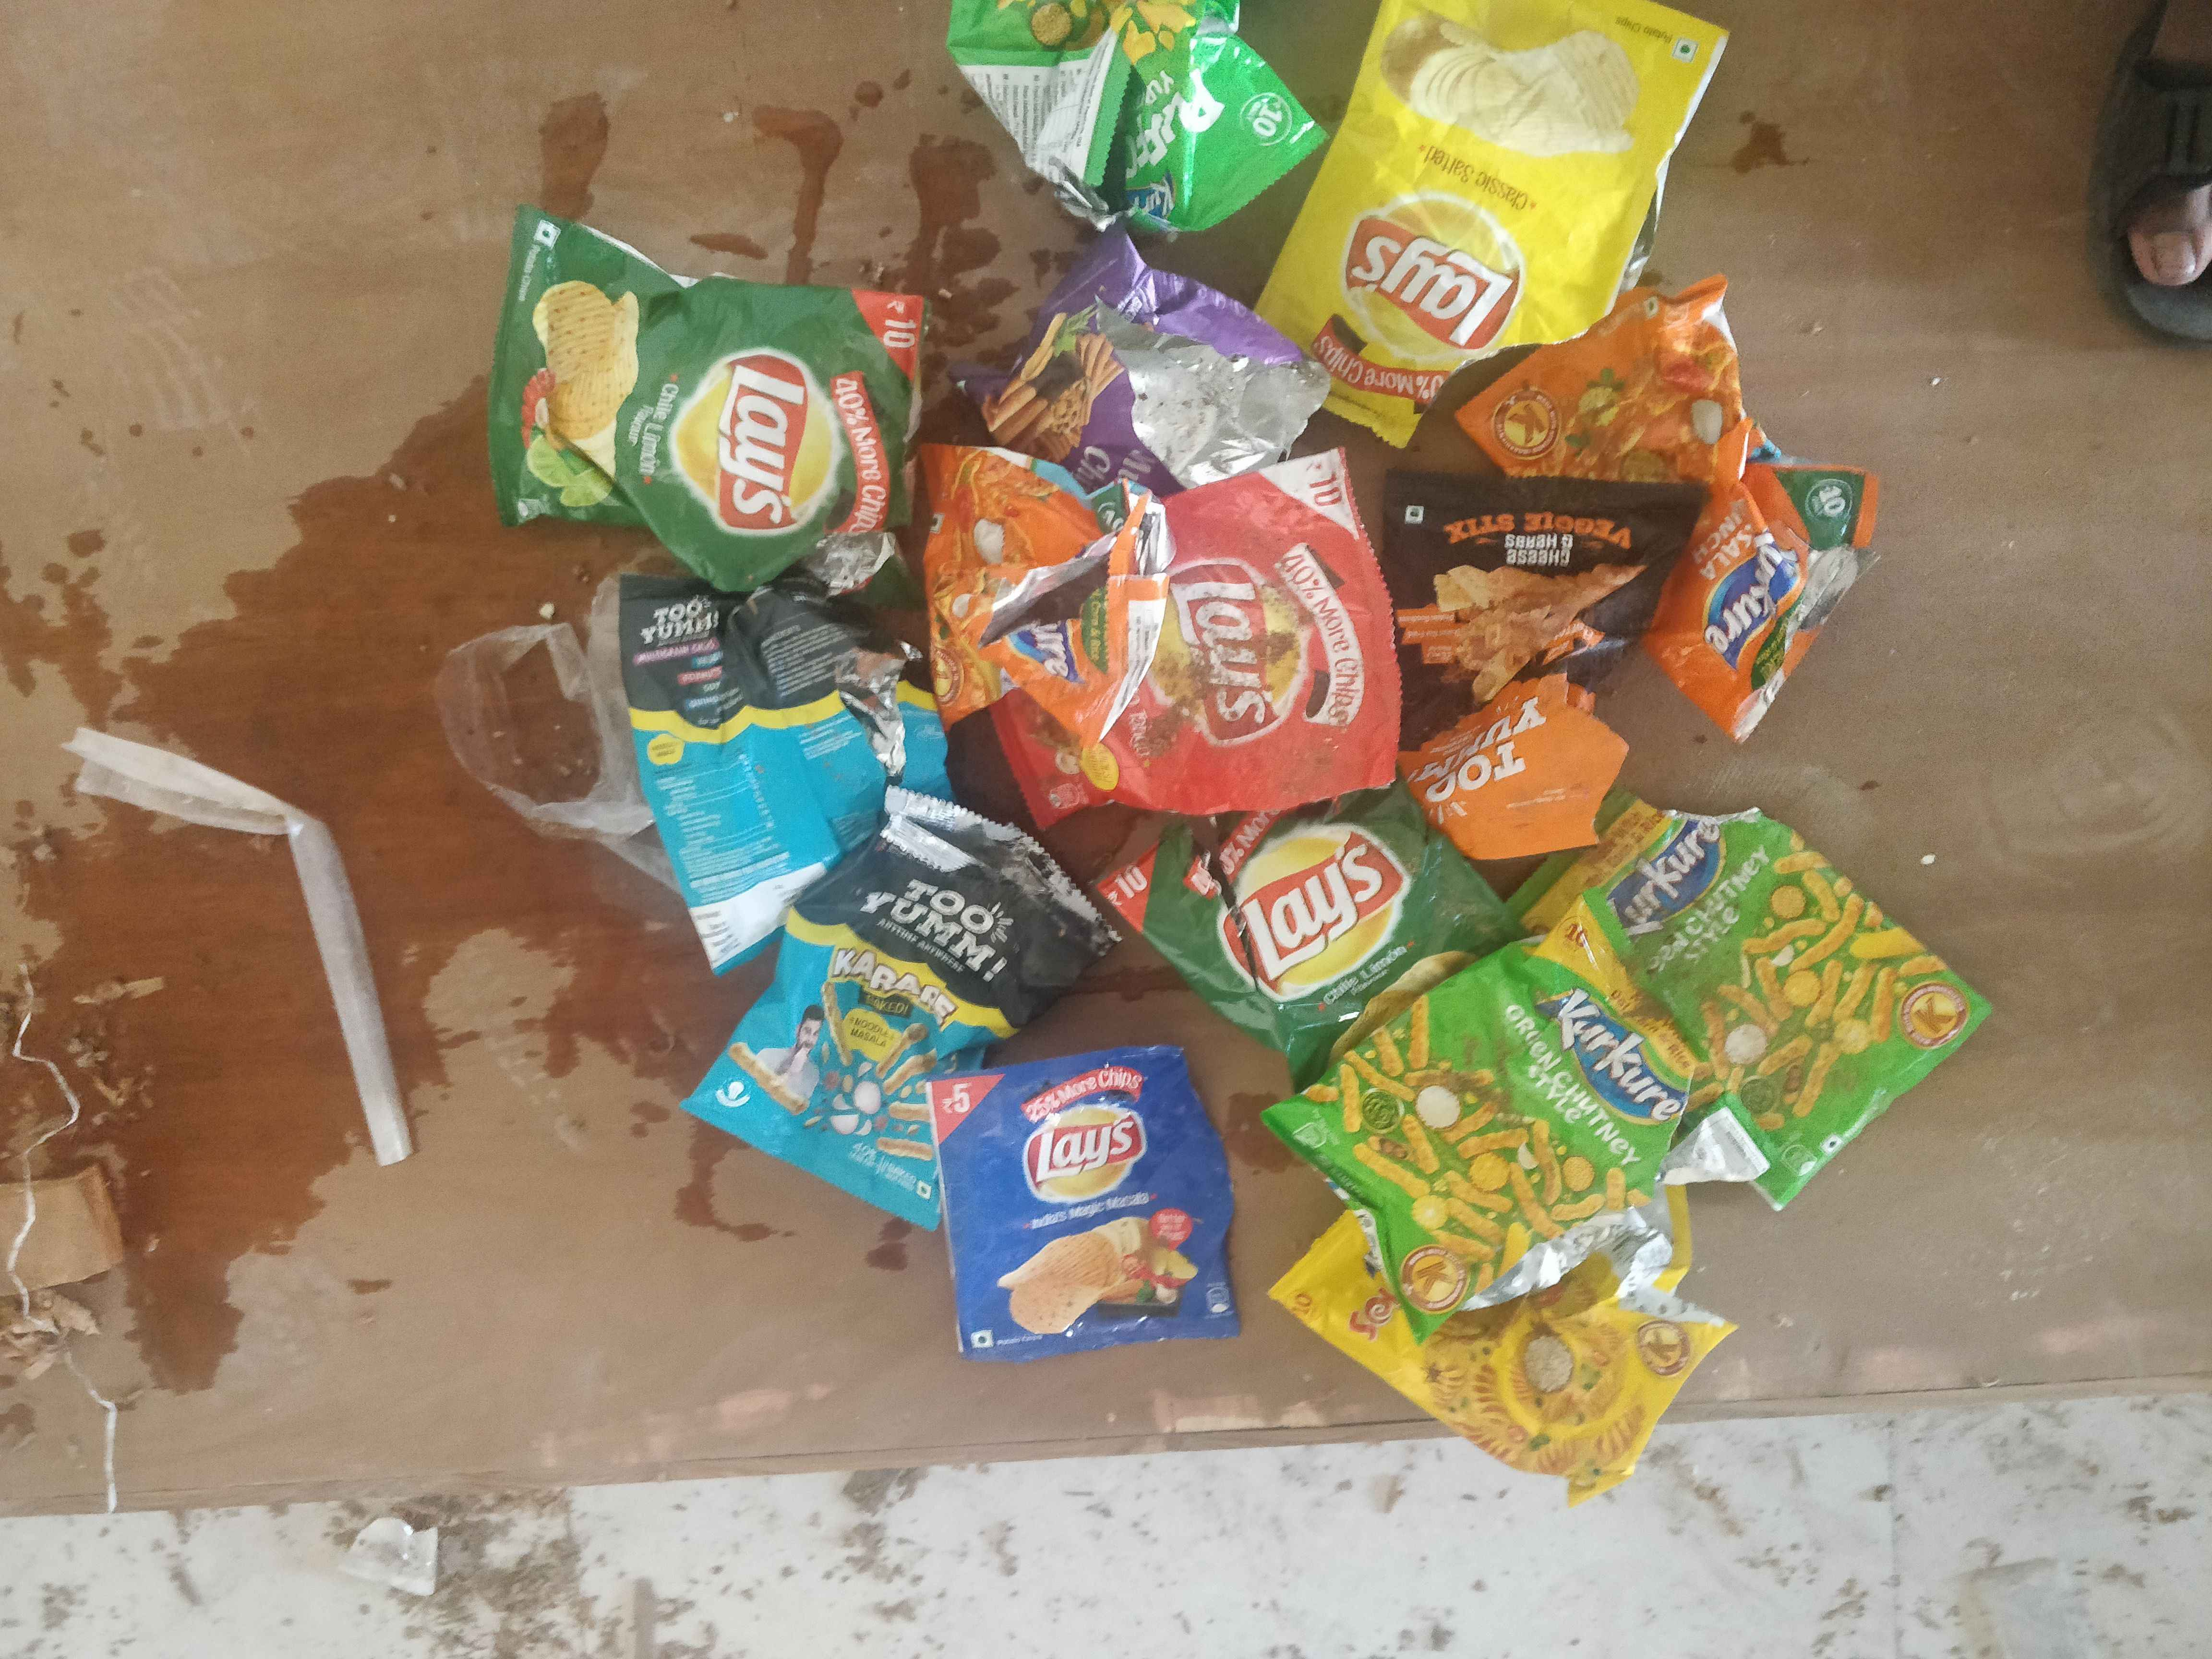Lays: (1163, 532, 1352, 742), (671, 340, 855, 532), (1224, 828, 1395, 1018), (1315, 197, 1534, 322), (1001, 1101, 1150, 1213)
kurkure: (1550, 946, 1723, 1124), (1686, 528, 1801, 671), (1611, 812, 1709, 957), (1061, 164, 1212, 234), (1022, 568, 1085, 687)
tooyumm: (864, 859, 1038, 992), (1409, 697, 1568, 809), (637, 598, 733, 647)
